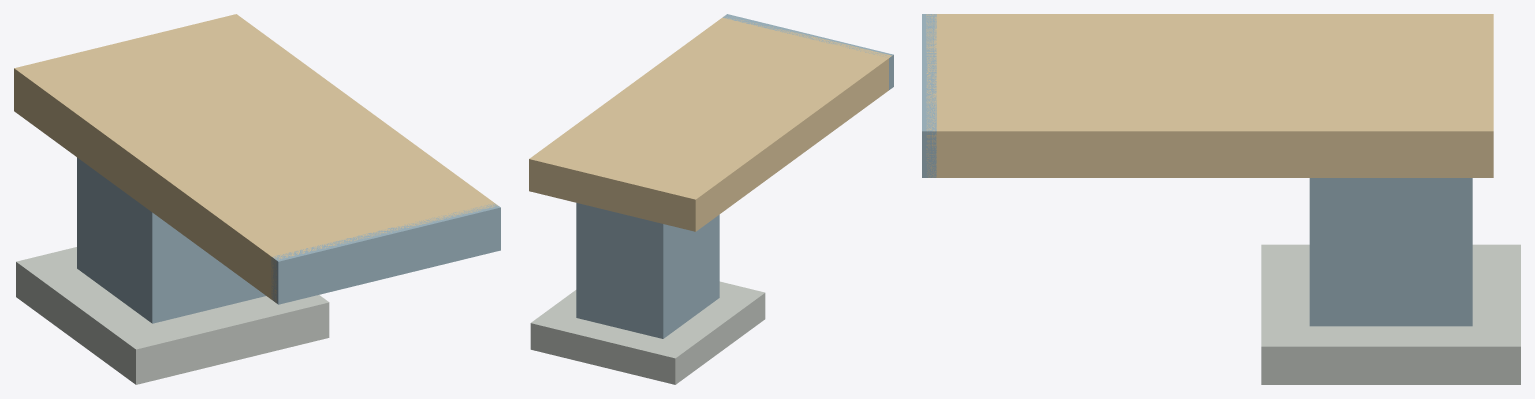
The model's file is pool.board-old.glb.
3 views of the same model, side by side, from view 1: azimuth 30°, elevation 25°; view 2: azimuth 150°, elevation 25°; view 3: azimuth 270°, elevation 25° (orthographic). The views are drawn at different scales.
Visible parts, largest first — view 1: base; view 2: base; view 3: base.
Part boxes in pixels (bbox=[...]): base: bbox=[14, 14, 500, 384]; base: bbox=[529, 14, 893, 384]; base: bbox=[922, 14, 1520, 384].
Bounding box in the file's own units: 0.46 × 0.4775 × 0.992.
